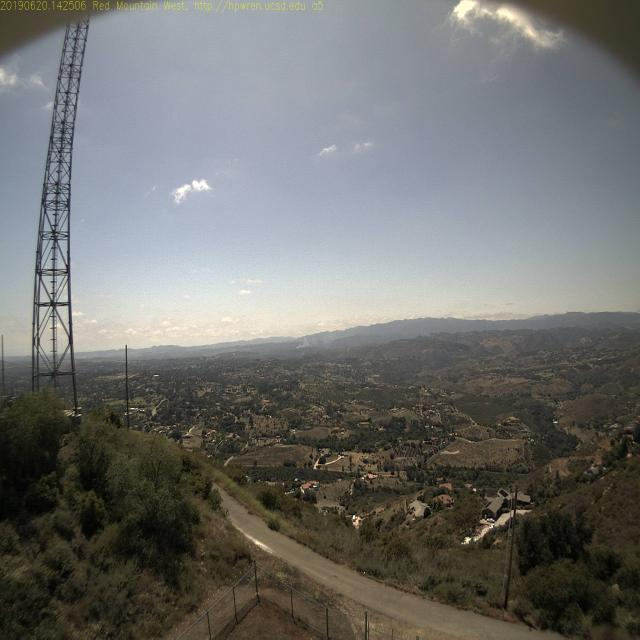smoke: (290, 337, 312, 355)
